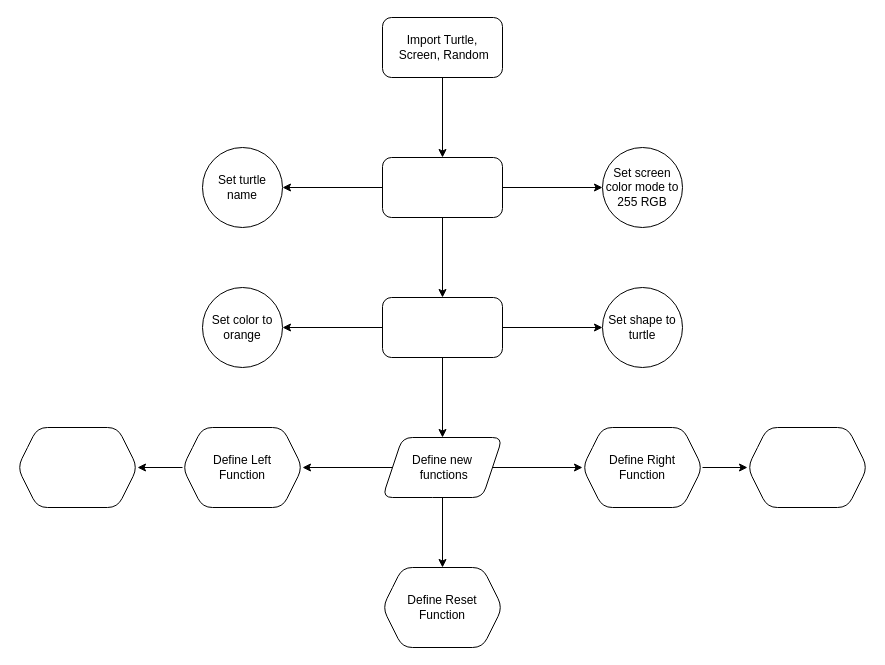
The diagram is 885 pixels wide and 665 high, and some of its shapes have lost their labels. The centre of each missing label's shape, as x and y in pixels:
Create screen object: (442,187)
Create turtle object: (442,327)
Define Backwards Function: (77,467)
Define Forward Function: (807,467)
